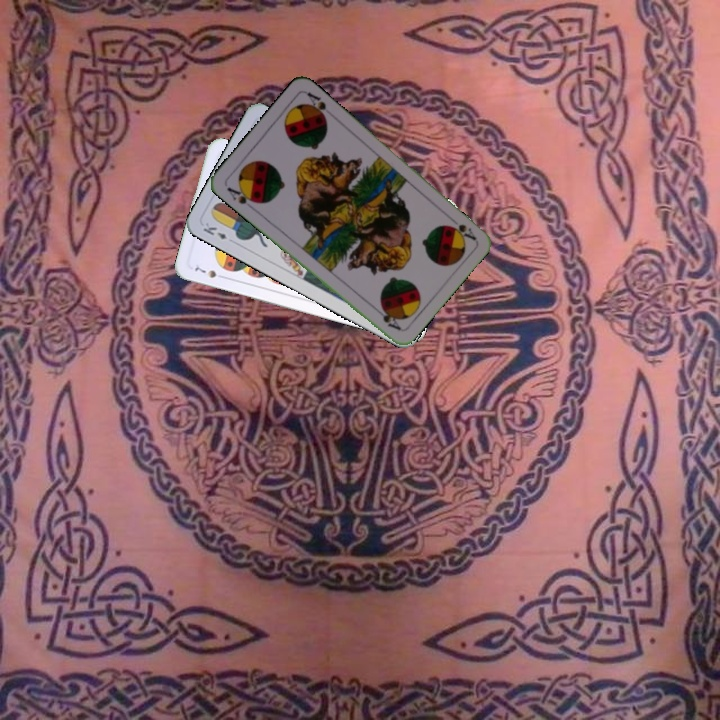EK: (199, 219, 229, 242)
S7: (191, 263, 228, 281)
SA: (223, 182, 261, 212), (445, 212, 479, 243)
